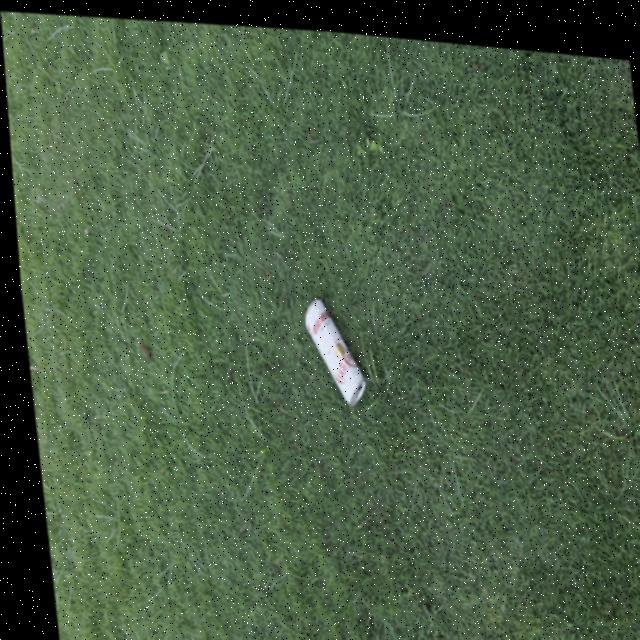Coca Cola Plus: (287, 282, 372, 415)
